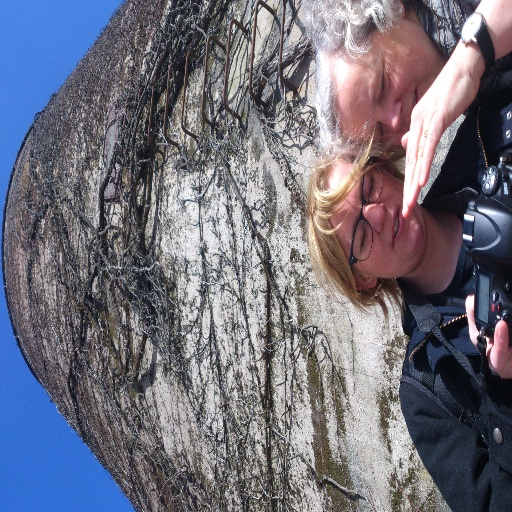hand: (395, 0, 503, 214), (464, 292, 511, 380)
